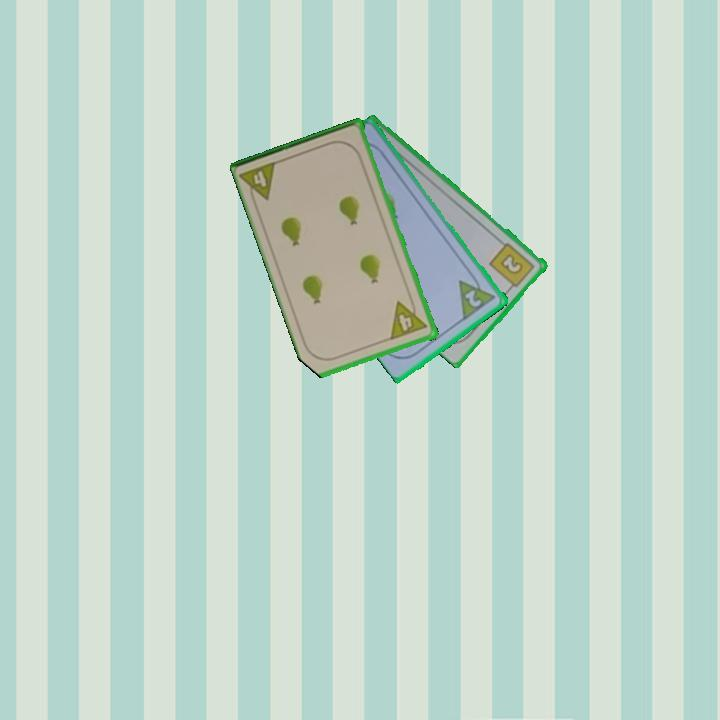2b: (486, 239, 538, 293)
2p: (455, 269, 499, 322)
4p: (238, 158, 281, 208), (387, 294, 431, 342)
